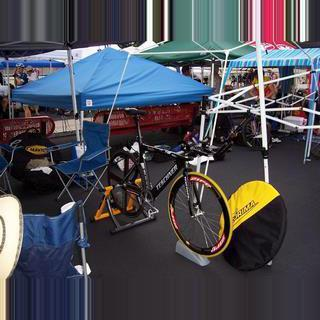Bike: (106, 109, 230, 261)
